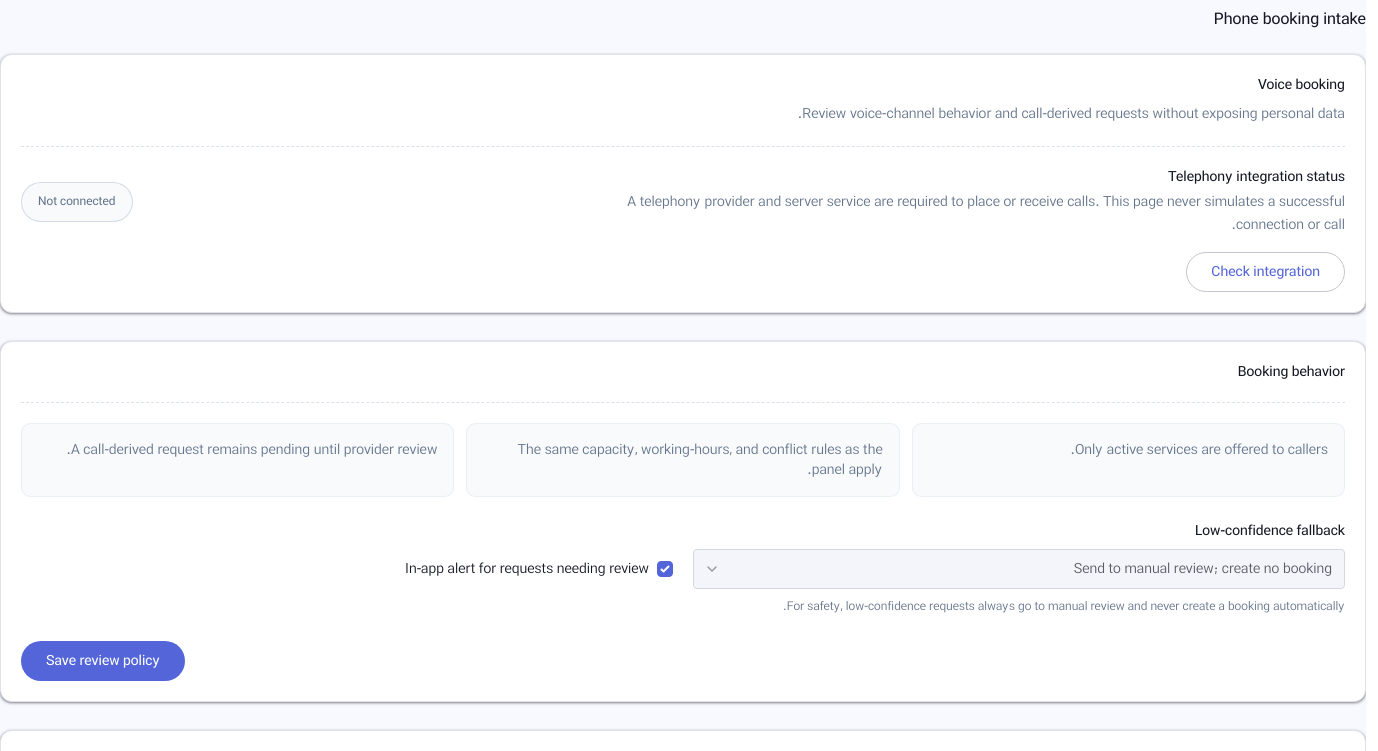
Test case: VoiceBookingPage › reports the disconnected integration honestly and saves review policy
Expected: the text "Not connected" is shown, [21,182,132,222]
Click the button "Check integration" at (1266, 272), box [1186,252,1345,292]
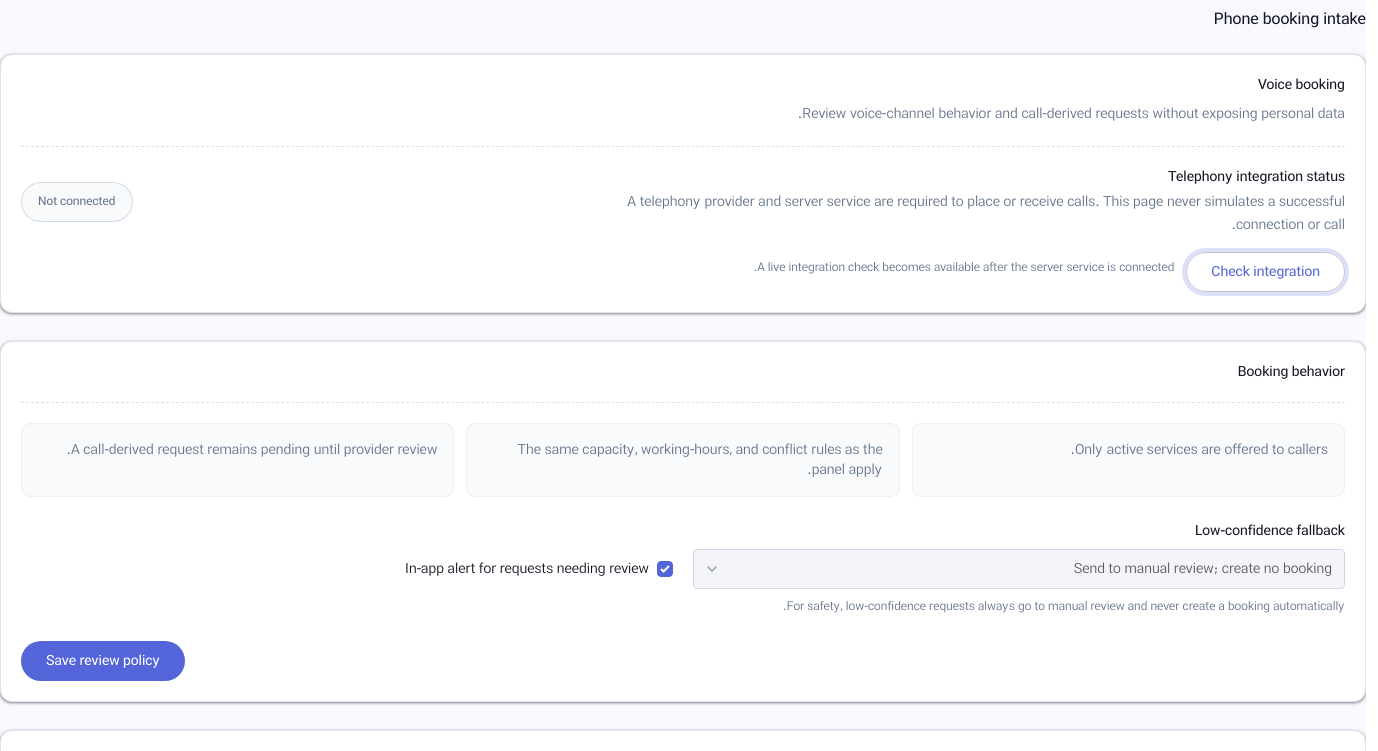
Now the text "A live integration check becomes available after the server service is connected." is shown, box [753,259,1174,276]
Click the checkbox labelled "In-app alert for requests needing review" at (665, 569), box [657,561,673,577]
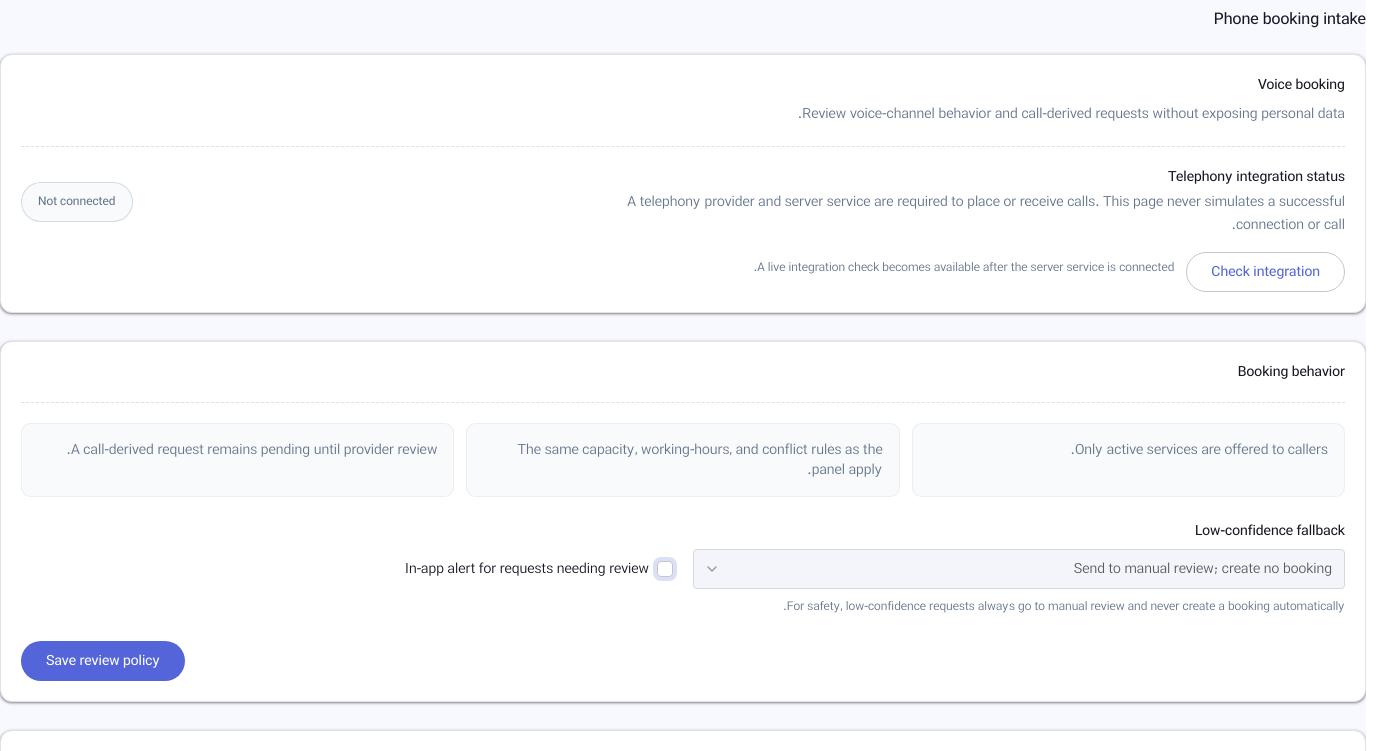
Click the button "Save review policy" at (103, 661), box [21,641,185,681]
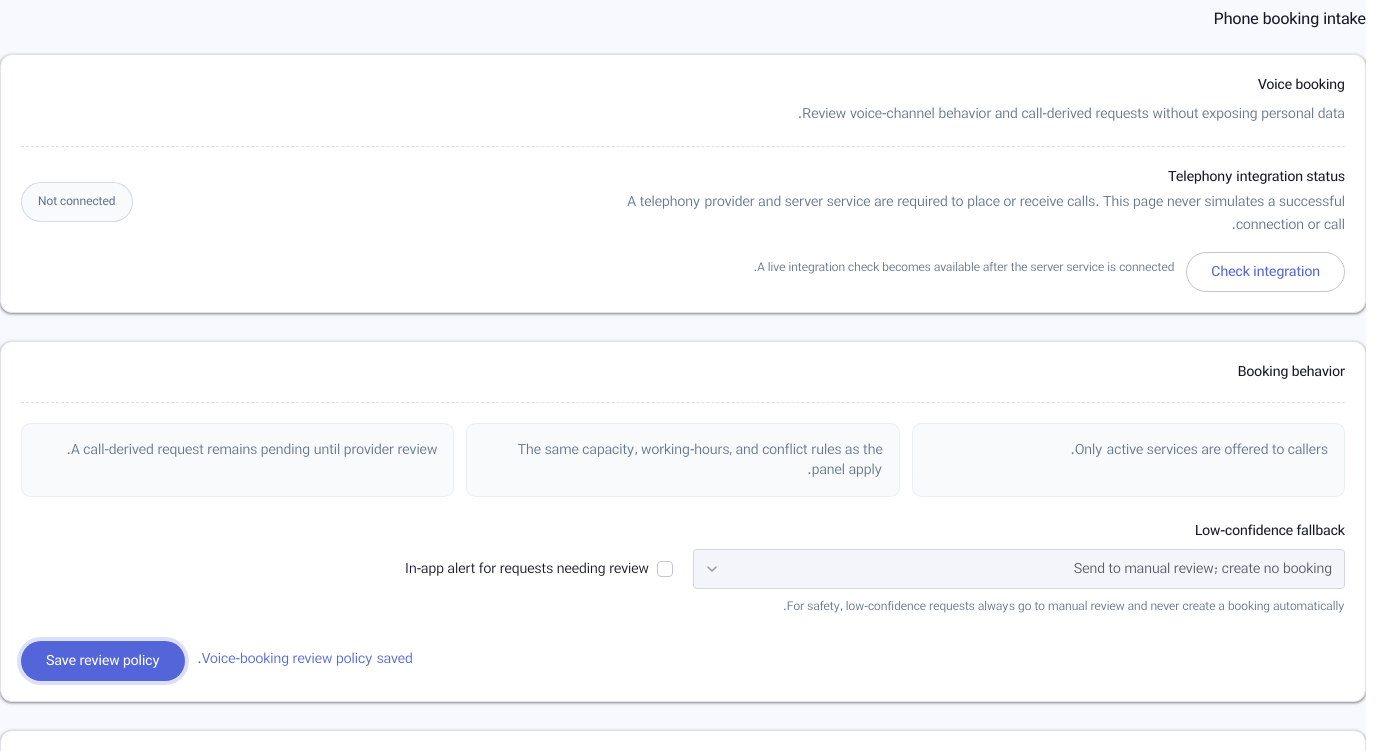
Now the text "Voice-booking review policy saved." is shown, box [197,649,413,673]
